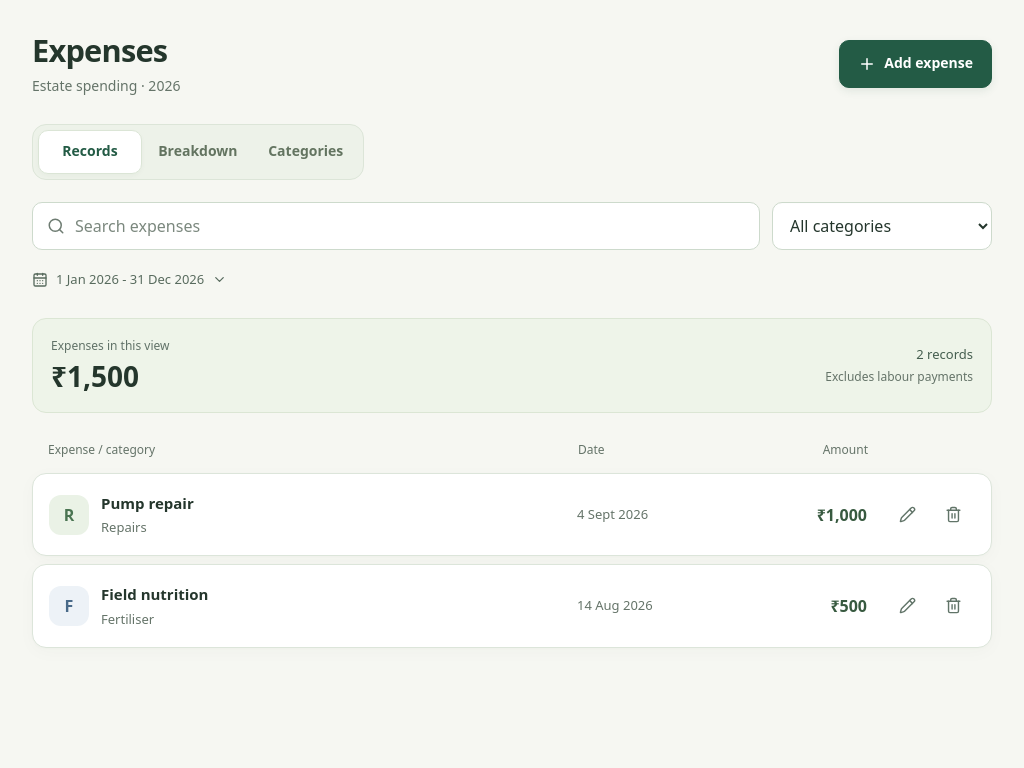
Scenario: expense workspace › keeps search, category results, and expense totals in sync
Select "Repairs" in the dropdown named "Filter expense category": (882,226) [772,202,992,250]
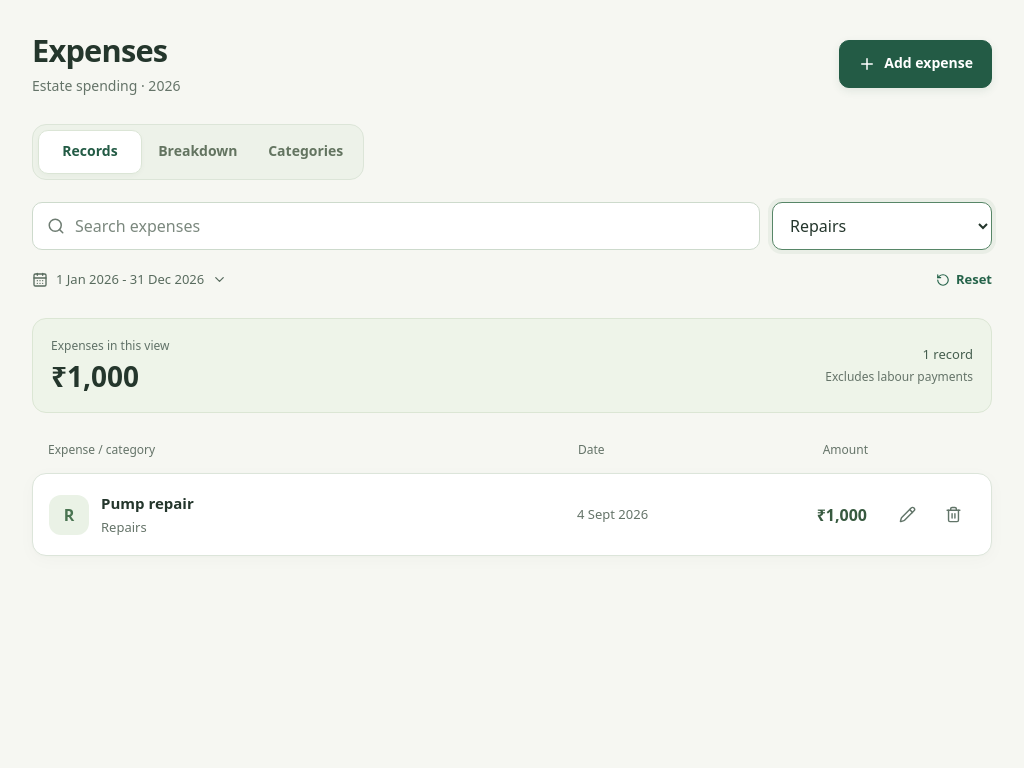
Expected: the heading "Field nutrition" is gone
Expected: the element with class "expense-result-summary" shows "1,000", [51,357,139,395]
In the search field: (410,226) [75,204,745,248], type "missing"
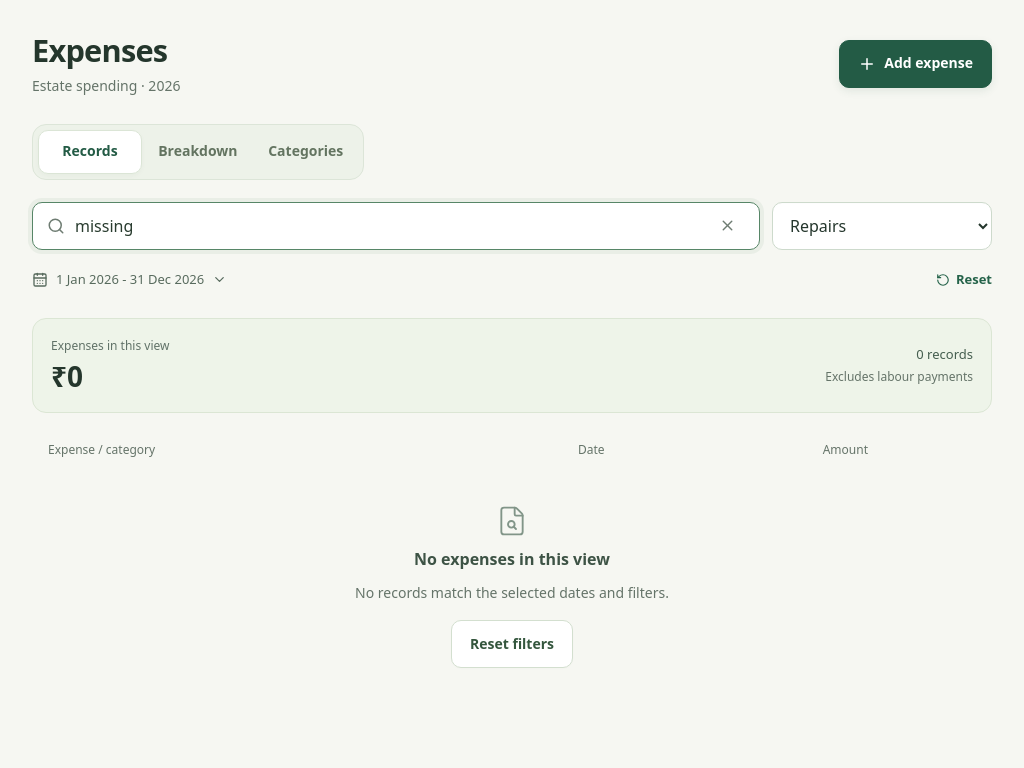
Expected: the heading "No expenses in this view" is shown, [414,547,610,571]
Click the button "Reset filters": (512,644) [451,620,573,668]
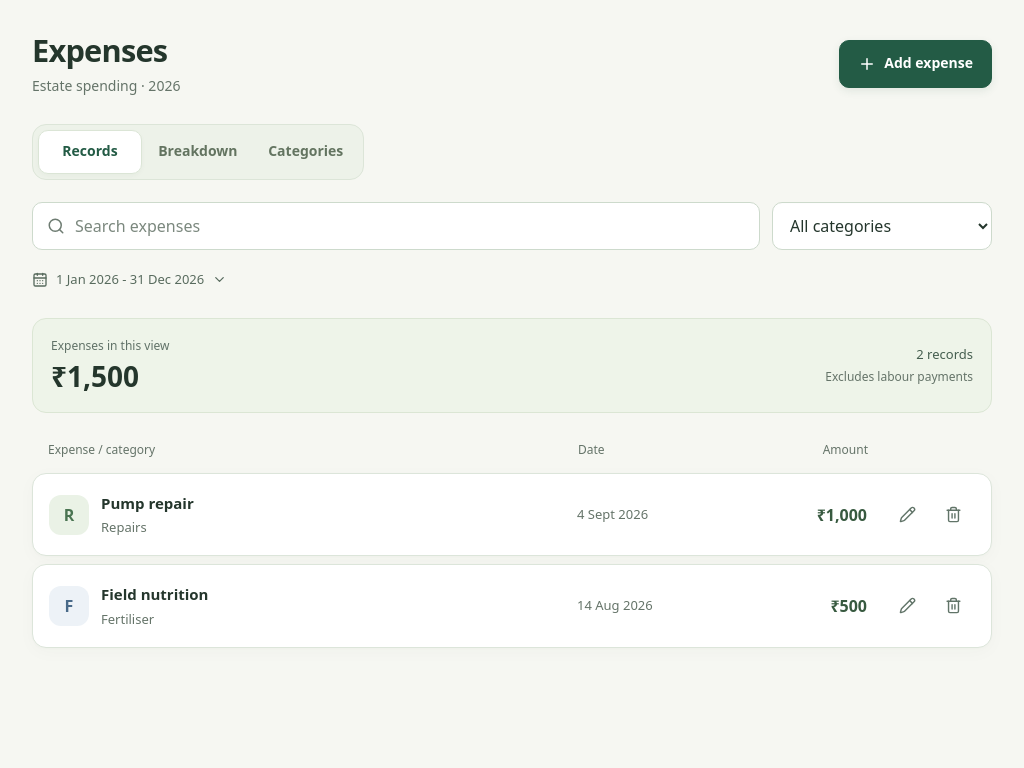
Expected: the heading "Field nutrition" is shown, [101,583,208,606]
Expected: the element with class "expense-result-summary" shows "1,500", [51,357,139,395]
